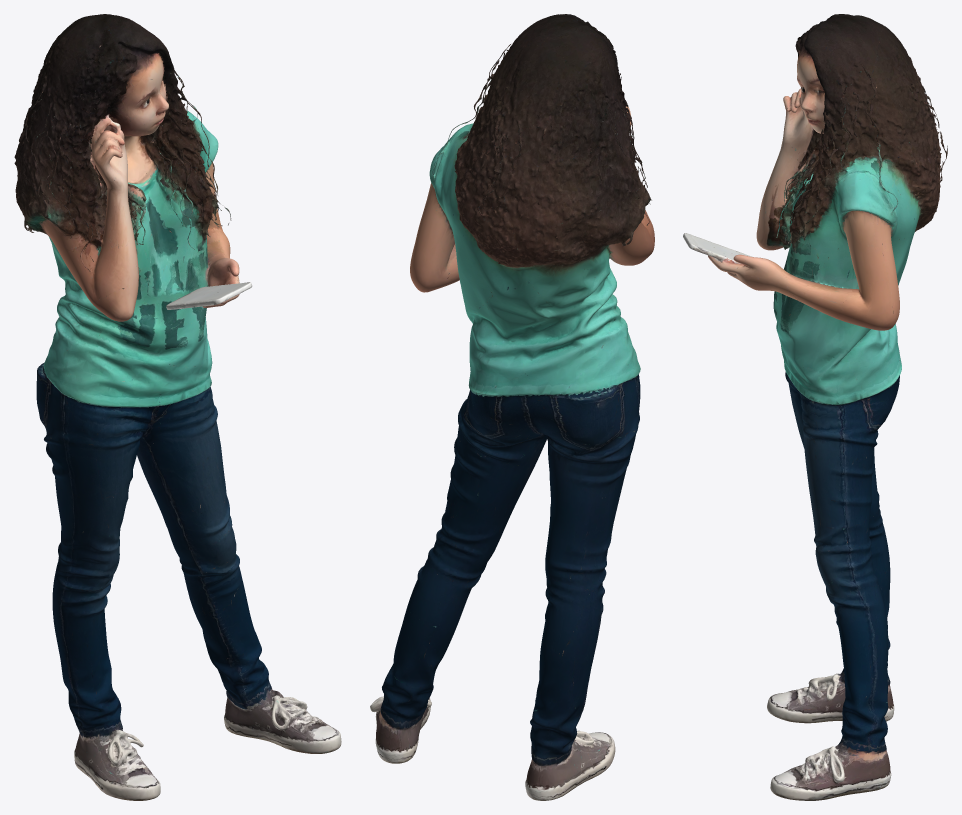
File: girl.glb
The picture shows the model from 3 angles, left to right: view 1: azimuth 30°, elevation 25°; view 2: azimuth 150°, elevation 25°; view 3: azimuth 270°, elevation 25°; orthographic projection. The views are drawn at different scales.
Visible parts, largest first — view 1: Object_5; view 2: Object_5; view 3: Object_5.
Part boxes in pixels (left/top/right/bottom): Object_5: left=14, top=14, right=341, bottom=800; Object_5: left=370, top=14, right=654, bottom=800; Object_5: left=683, top=14, right=947, bottom=800.
Size of the model in its own units: 0.7367 by 1.9 by 0.6521.
Materials: 1 (1 with a texture image).
